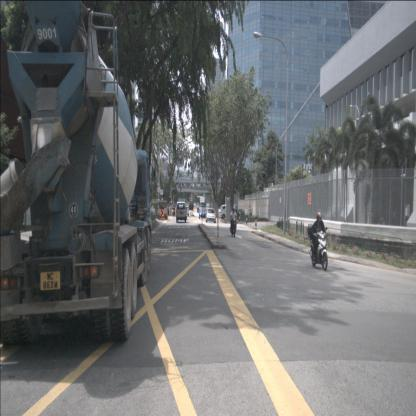human-pedestrian-adult: (248, 204, 252, 223)
movable_object-trafficcone: (166, 214, 168, 220)
vehicle-bus-rigid: (196, 196, 206, 212)
vehicle-car: (218, 204, 238, 219), (176, 201, 186, 223), (206, 208, 216, 224), (199, 206, 206, 219), (184, 206, 189, 216)
vehicle-motorcycle: (307, 212, 328, 272), (229, 206, 237, 238), (172, 205, 176, 217)
vehicle-truck: (188, 199, 194, 210)
